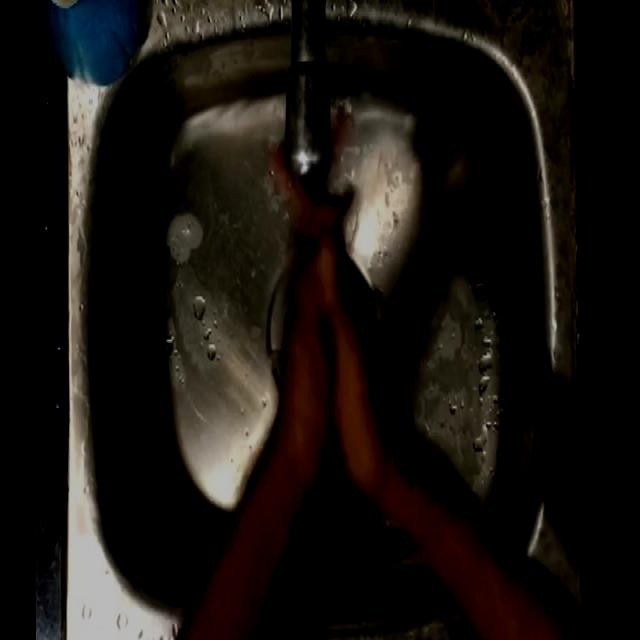step_3: (247, 123, 402, 467)
